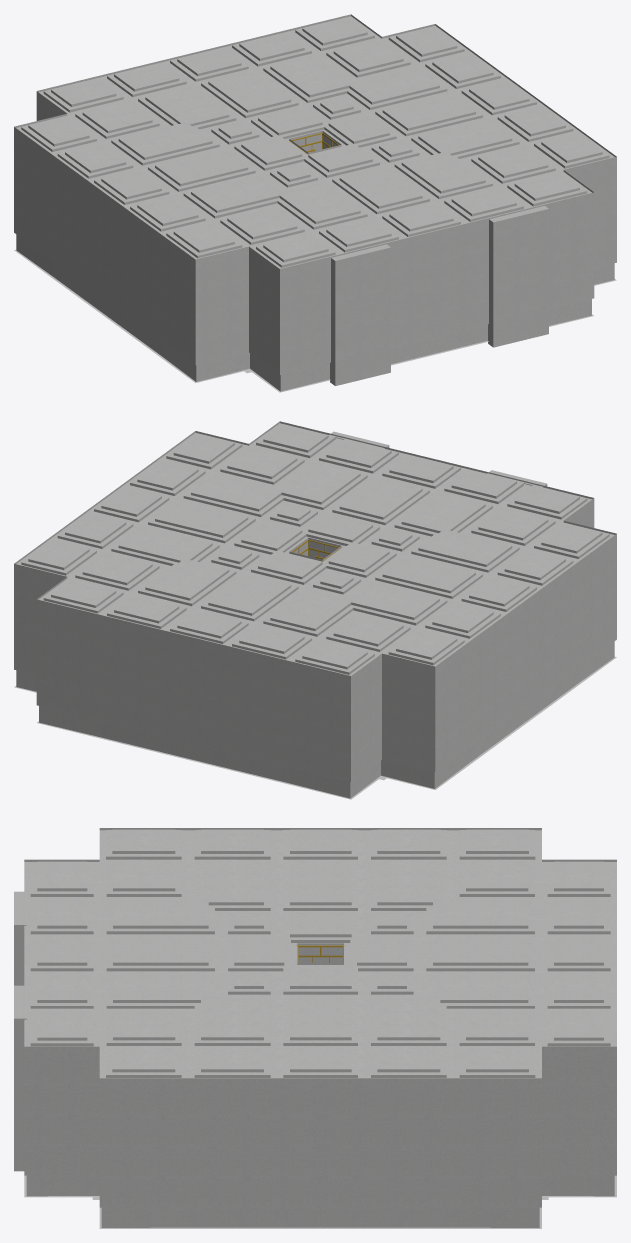
File: museum_hall3.FBX
3 renders of one model, top to bottom at view 1: azimuth 30°, elevation 25°; view 2: azimuth 150°, elevation 25°; view 3: azimuth 270°, elevation 25°, orthographic. The views are drawn at different scales.
Parts seen in each view (by area): view 1: floor_vol2, Box3337, Object064; view 2: floor_vol2; view 3: floor_vol2, Box3337, Object064.
Boxes of the visible parts, x1,y1,x2,y2 form: floor_vol2: (14,14,616,392); Box3337: (488,206,548,347); Object064: (330,244,390,385); floor_vol2: (14,421,616,799); floor_vol2: (24,828,616,1228); Box3337: (14,985,26,1171); Object064: (14,891,26,985).
Bounding box in the file's own units: 217 × 63.89 × 221.
